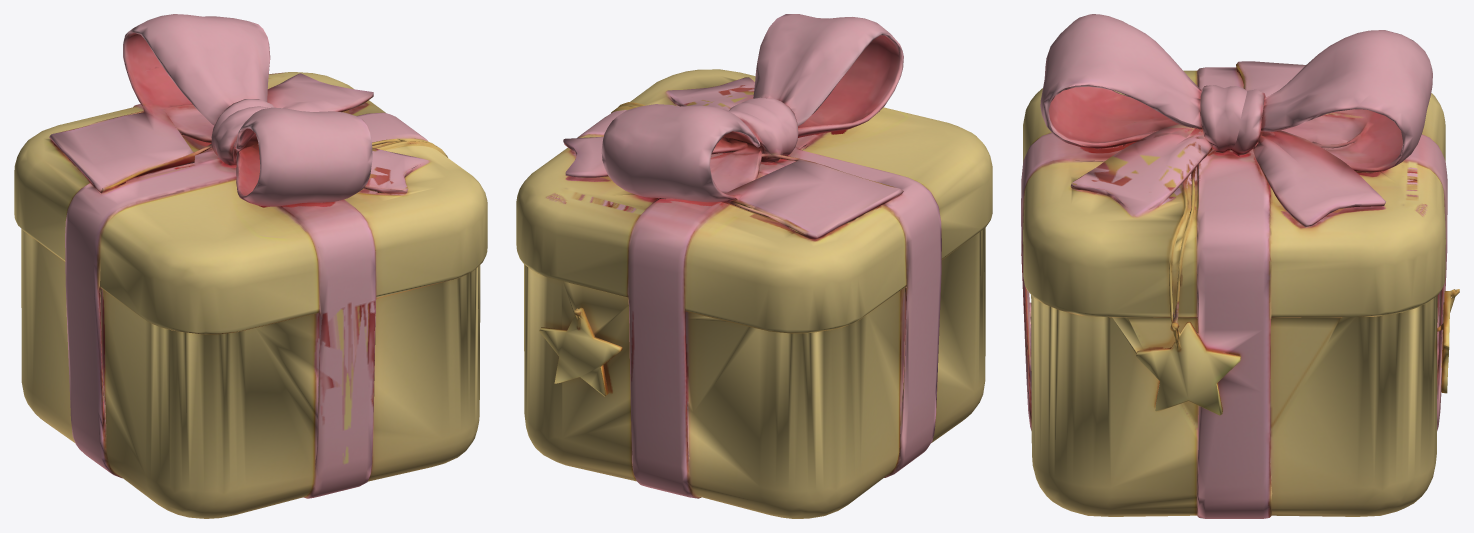
3 views of the same model, side by side, from view 1: azimuth 30°, elevation 25°; view 2: azimuth 150°, elevation 25°; view 3: azimuth 270°, elevation 25° (orthographic). The views are drawn at different scales.
Parts seen in each view (by area): view 1: repaired; view 2: repaired; view 3: repaired.
Boxes of the visible parts, x1=… form: repaired: x1=14, y1=14, x2=487, y2=518; repaired: x1=516, y1=14, x2=992, y2=518; repaired: x1=1021, y1=14, x2=1459, y2=518.
Size of the model in its own units: 0.9863 by 0.9999 by 0.9724.
Materials: 1 (1 with a texture image).
